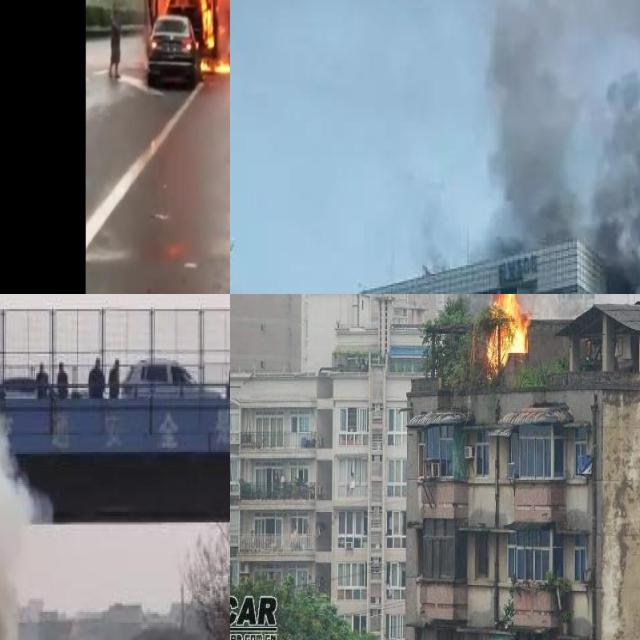fire: (152, 0, 230, 76), (484, 294, 527, 365)
smoke: (425, 0, 640, 294)
